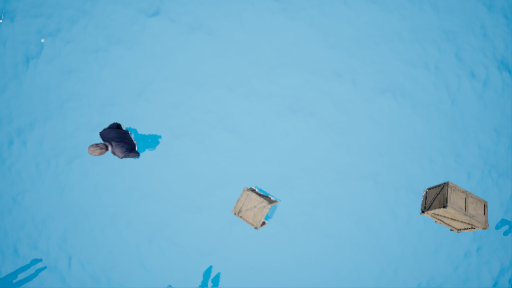person: (82, 119, 163, 166)
